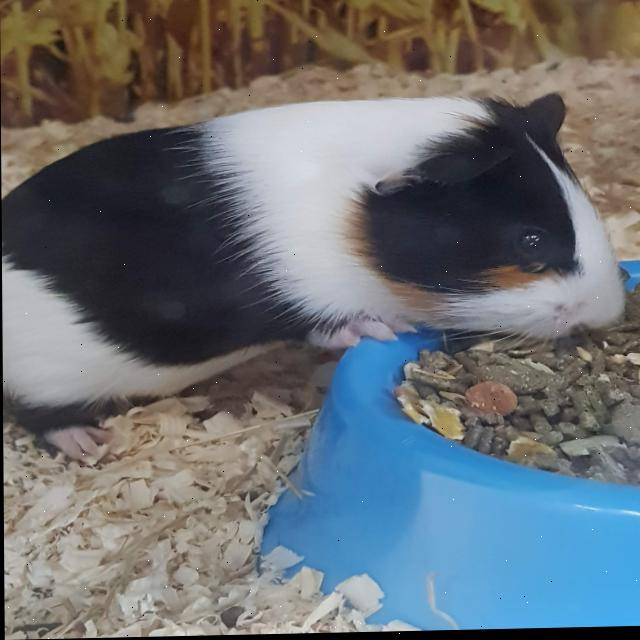guinea pig: (1, 93, 631, 462)
